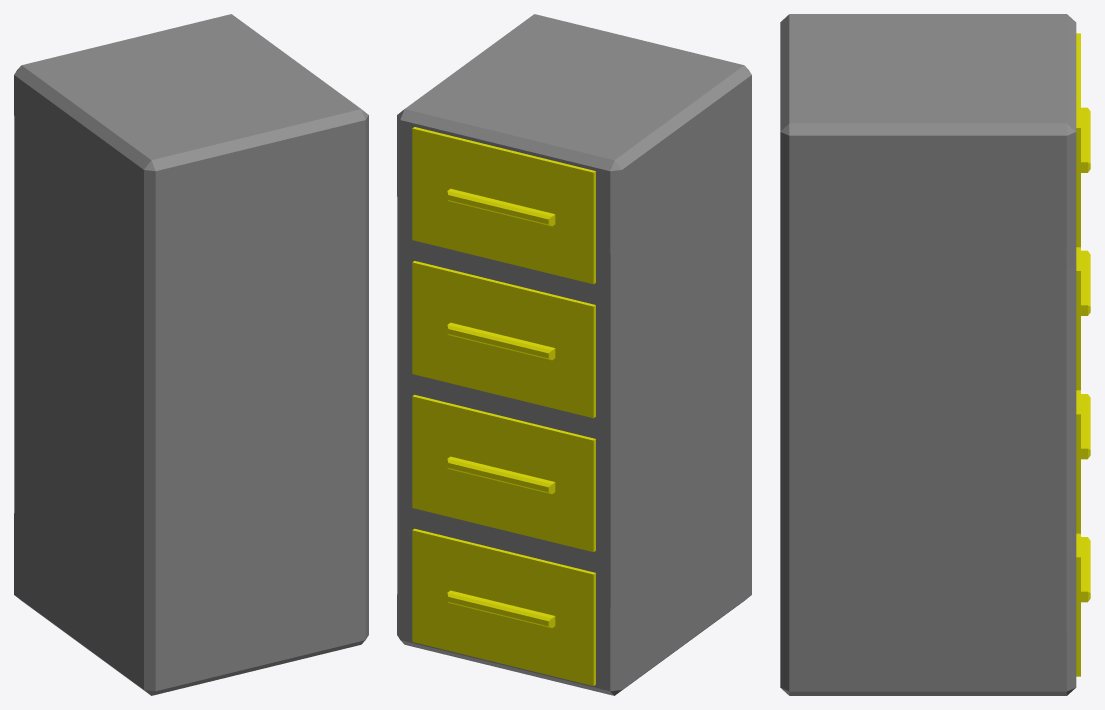
Rendered from FileStorage.fbx.
3 renders of one model, left to right at view 1: azimuth 30°, elevation 25°; view 2: azimuth 150°, elevation 25°; view 3: azimuth 270°, elevation 25°, orthographic. The views are drawn at different scales.
Visible parts, largest first — view 1: FileStorage; view 2: FileStorage, FileDrawer1, FileDrawer2, FileDrawer, FileDrawer3; view 3: FileStorage, FileDrawer, FileDrawer3, FileDrawer1, FileDrawer2.
Boxes of the visible parts, bbox=[...] form: FileStorage: bbox=[14, 14, 368, 695]; FileStorage: bbox=[397, 14, 751, 695]; FileDrawer1: bbox=[412, 261, 595, 418]; FileDrawer2: bbox=[412, 394, 595, 551]; FileDrawer: bbox=[412, 127, 595, 284]; FileDrawer3: bbox=[412, 528, 595, 685]; FileStorage: bbox=[780, 14, 1076, 695]; FileDrawer: bbox=[1076, 33, 1090, 247]; FileDrawer3: bbox=[1076, 533, 1090, 676]; FileDrawer1: bbox=[1076, 247, 1090, 390]; FileDrawer2: bbox=[1076, 390, 1090, 533].
Bounding box in the file's own units: 50.91 × 116 × 56.96.
